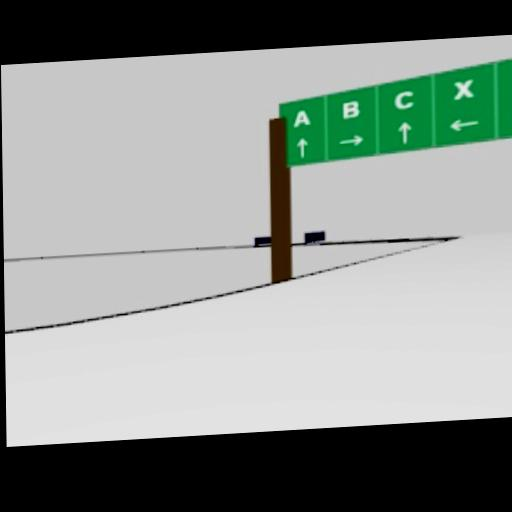A: (292, 108, 310, 127)
B: (342, 99, 360, 119)
C: (392, 89, 415, 109)
Left: (448, 117, 479, 130)
Right: (337, 133, 363, 148)
Straight: (398, 121, 411, 146), (296, 136, 309, 158)
X: (452, 77, 475, 98), (452, 78, 473, 100)
